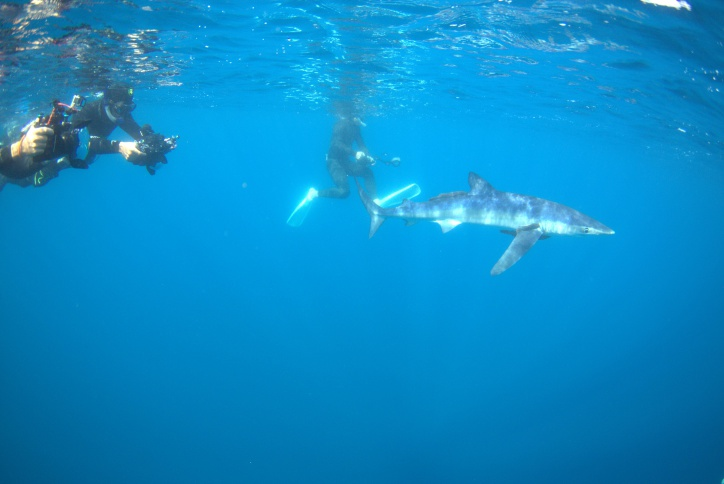Azul: (350, 167, 632, 284)
